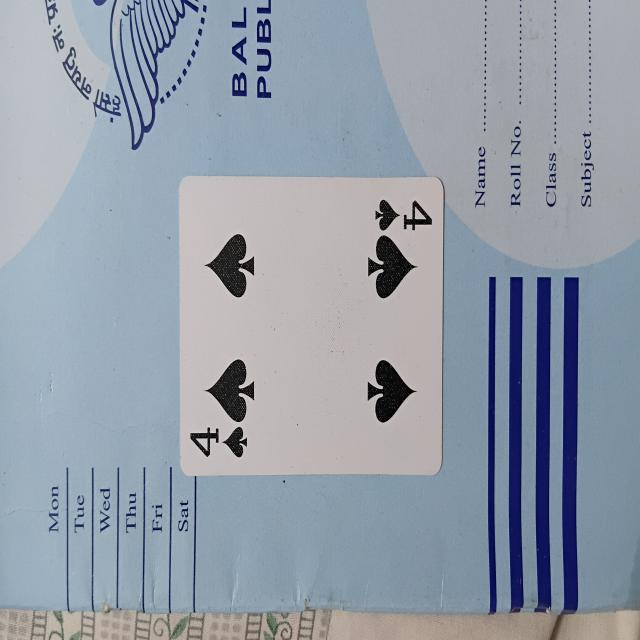4S: (179, 181, 444, 473)
